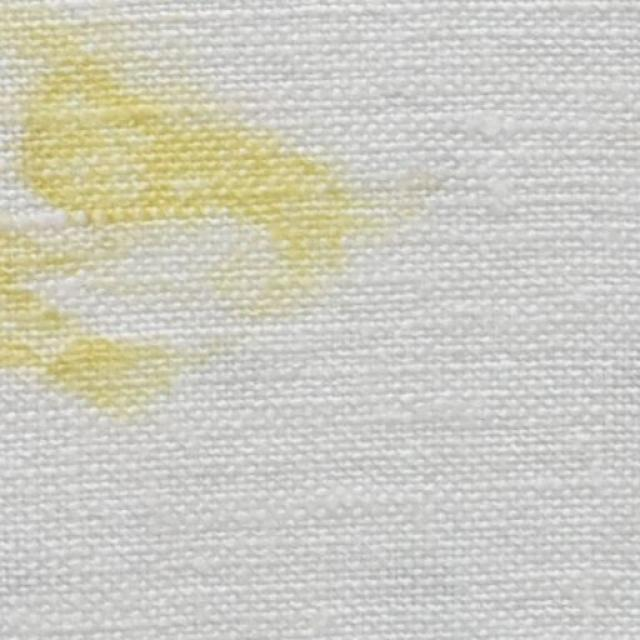Stain: (0, 0, 369, 414)
